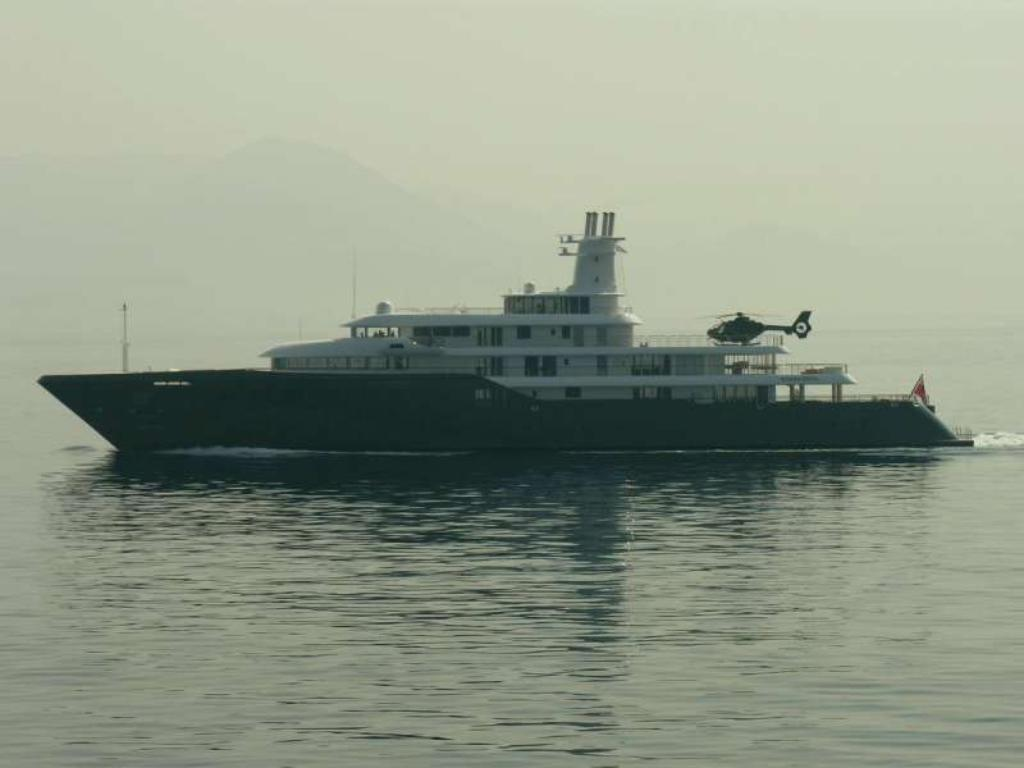PassengerShip: (32, 195, 976, 459)
